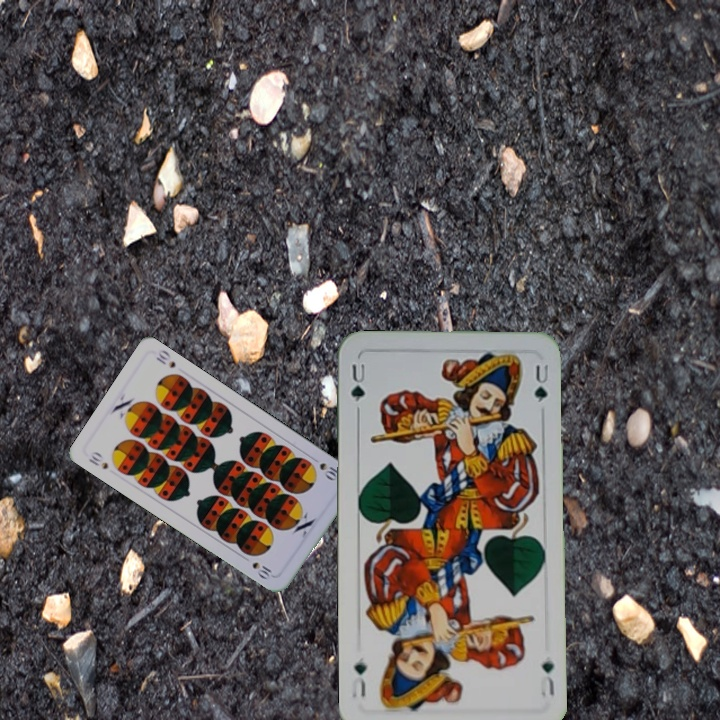GU: (347, 359, 368, 405), (536, 656, 556, 699)
S10: (307, 453, 342, 484), (85, 447, 111, 472)
